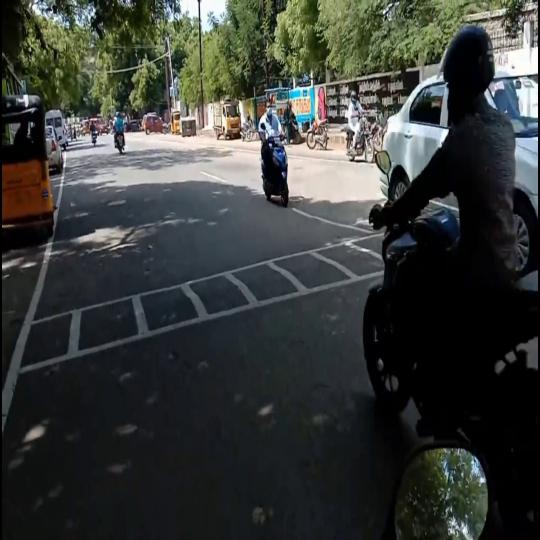Speed Bump: (1, 230, 362, 368)
